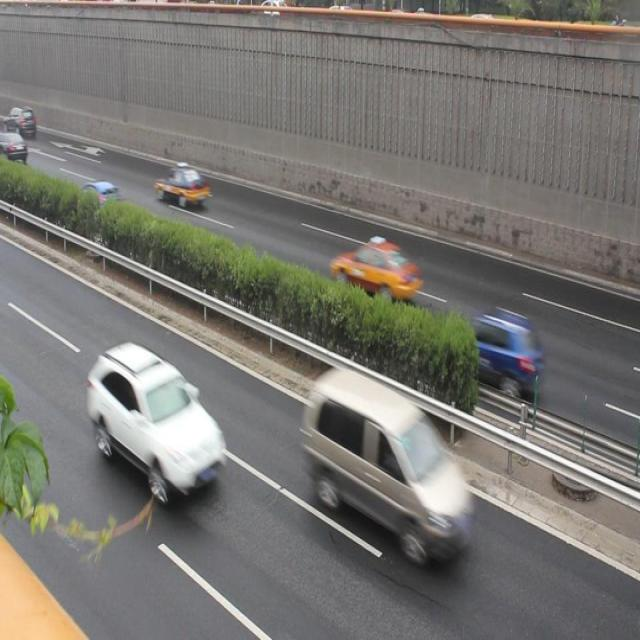car: (88, 340, 224, 490), (442, 305, 538, 390), (329, 236, 417, 302), (65, 177, 118, 225), (153, 161, 207, 205)
